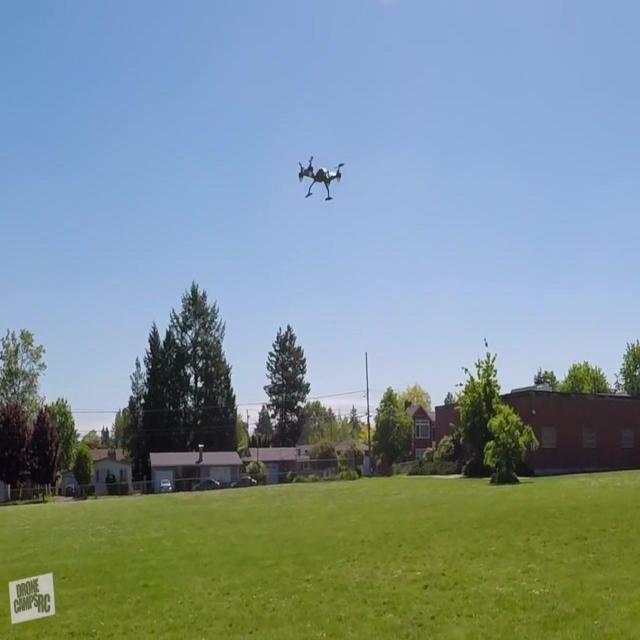drone: (297, 152, 346, 204)
